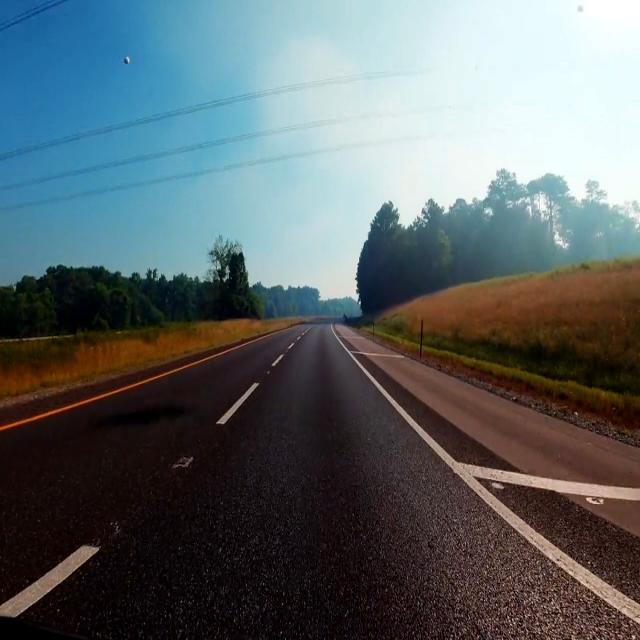road: (0, 324, 640, 637), (497, 485, 640, 601)
